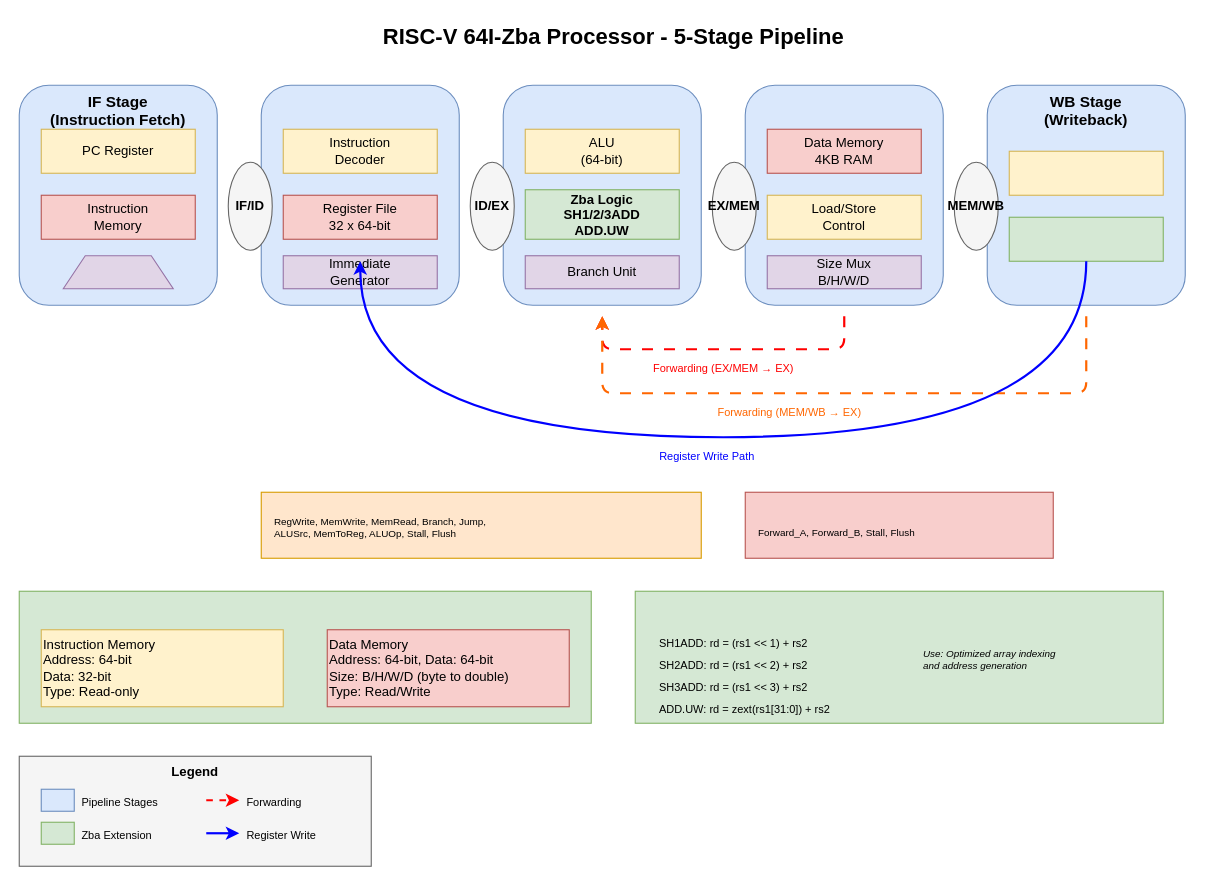
The diagram is 1205 pixels wide and 886 high, and some of its shapes have lost their labels. The box of each missing label's shape, as (x1, y1, x2, y2) in pixels:
Control Unit: (260, 491, 701, 558)
EX Stage (Execute): (502, 84, 701, 305)
Hazard Detection & Forwarding Unit: (744, 491, 1053, 558)
ID Stage (Decode): (260, 84, 459, 305)
MEM Stage (Memory): (744, 84, 943, 305)
Memory Interfaces: (18, 590, 591, 723)
PC Mux: (62, 255, 173, 289)
Register Write Enable: (1008, 216, 1163, 261)
WB Mux ALU/MEM: (1008, 150, 1163, 195)
Zba Extension Instructions: (634, 590, 1163, 723)
